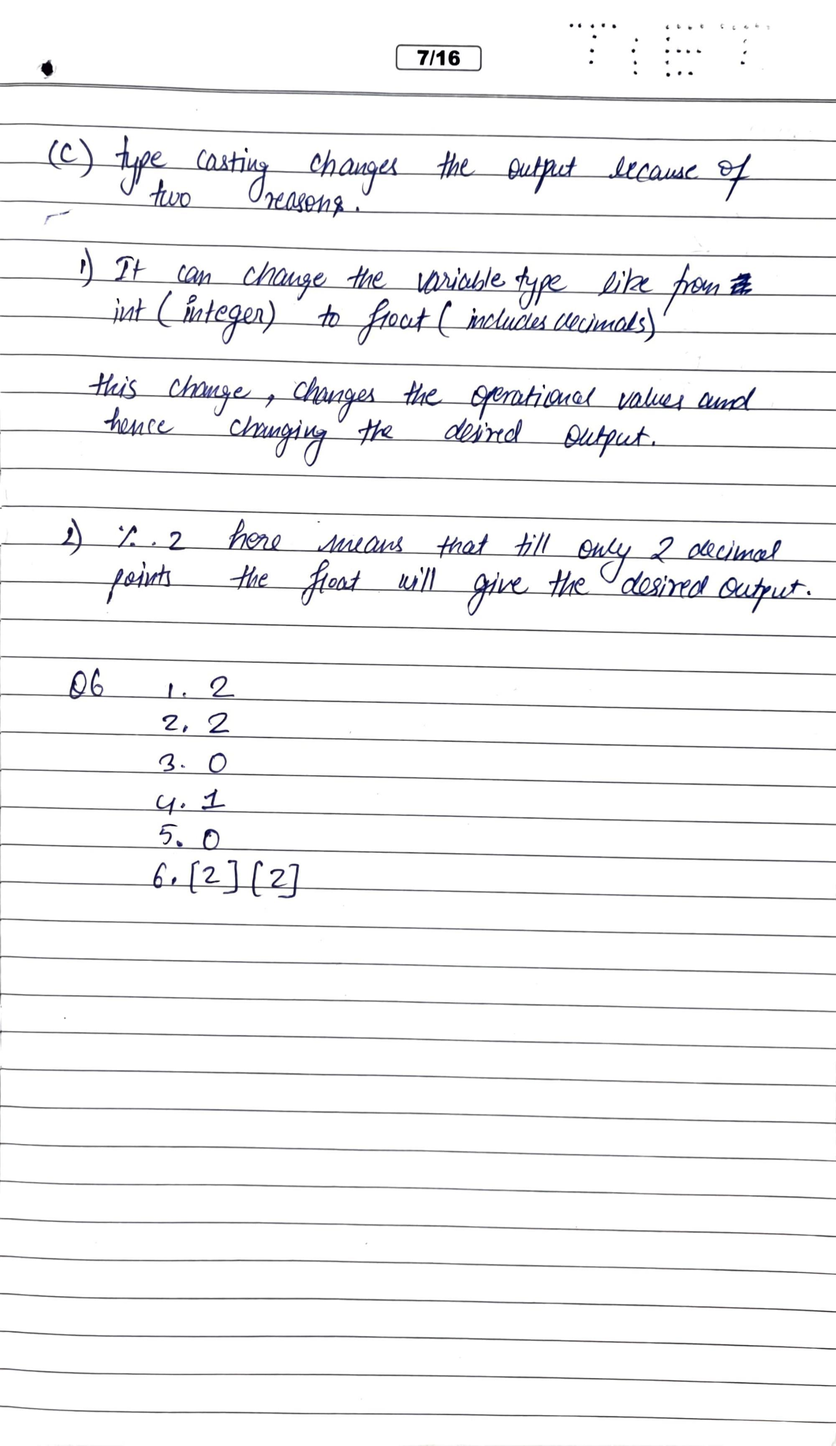cuttings: (727, 271, 754, 297)
